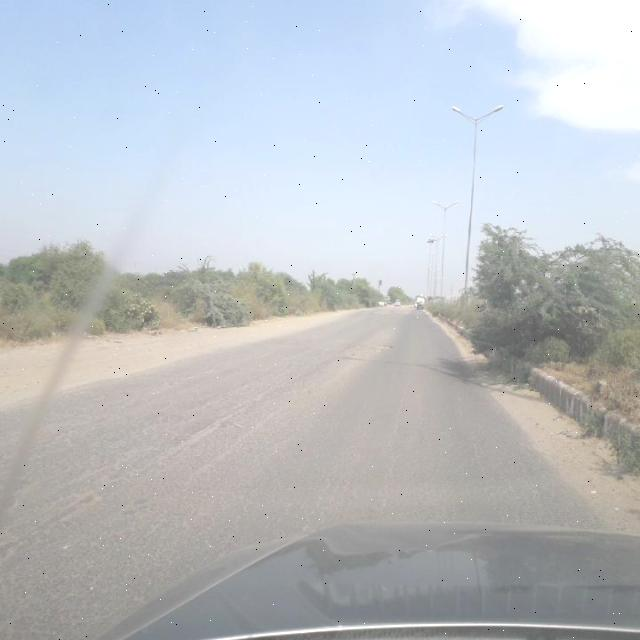D20: (0, 380, 256, 592)
D40: (365, 335, 399, 360)
